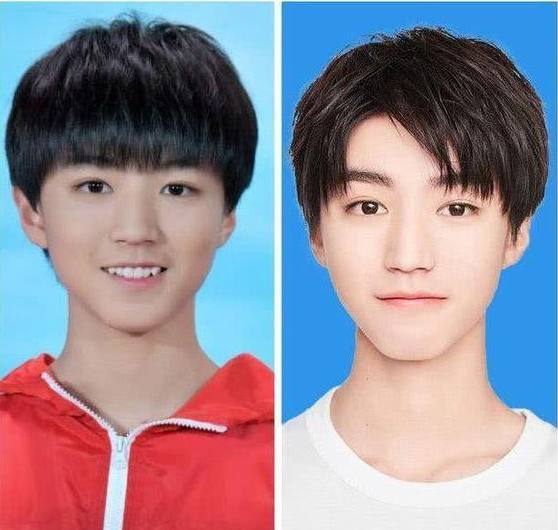unmask: (330, 137, 503, 351), (52, 137, 218, 314)
